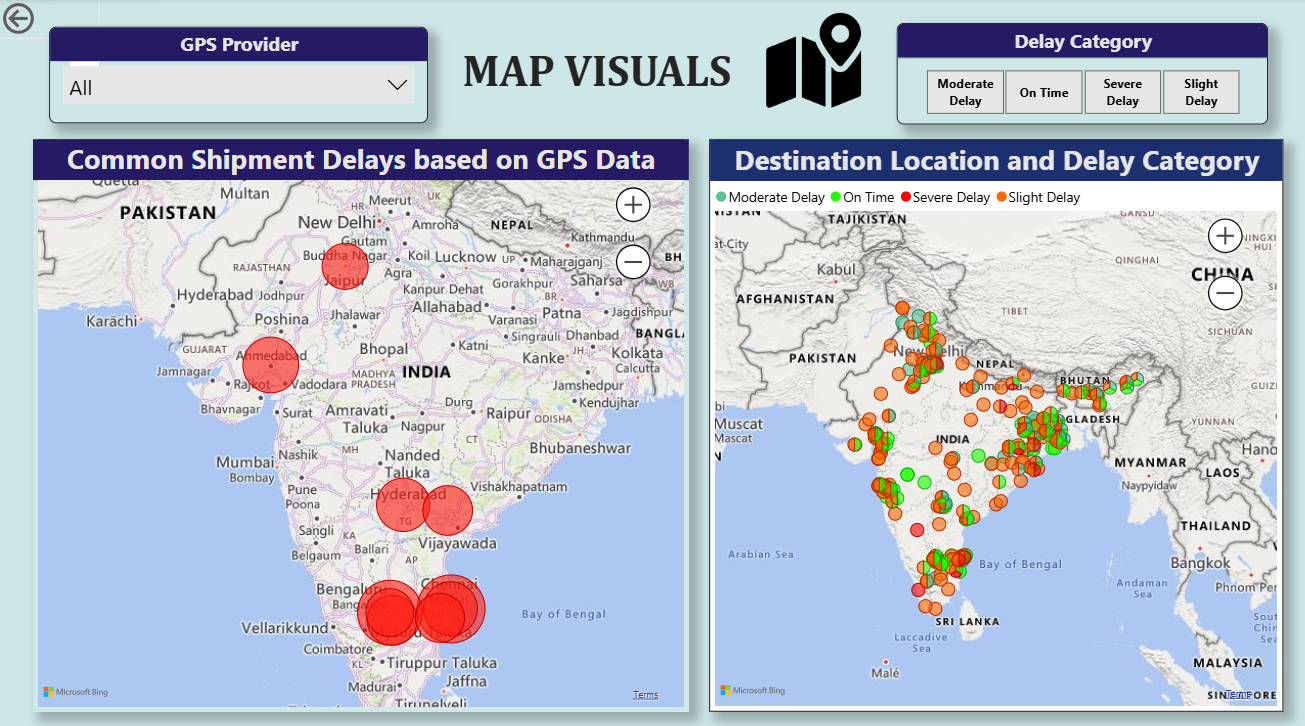

This screenshot's page, from the dashboard's own definition file:
{"tool":"powerbi","page":{"name":"Page 8","canvas":[1280,720],"ordinal":2},"visuals":[{"type":"map","title":"Common Shipment Delays based on GPS Data","fields":{"Size":["Sum(Data.Delay Time)"],"Category":["Data.Current Location"]},"box":[34.2,138.2,642,560.1],"z":0},{"type":"map","fields":{"Category":["Data.Destination Location"],"Series":["Data.Delay Category"]},"box":[695.8,138.2,561.3,560.1],"z":1000},{"type":"textbox","box":[373,40.4,425.5,90.5],"z":2000},{"type":"image","box":[745.9,9.8,103.9,102.7],"z":3000},{"type":"actionButton","box":[0,0,100,40],"z":4000},{"type":"slicer","title":"Delay Category","fields":{"Values":["Data.Delay Category"]},"box":[879.2,25,363.2,99],"z":5000},{"type":"slicer","title":"GPS Provider","fields":{"Values":["Data.Gps Provider"]},"box":[50.1,28.1,370.5,94.2],"z":6000}]}

Visuals, with their boxes in screenshot pixels (x1, y1, x2, y2), scaled from the page's 1280x720 canvas onto the 1305x726 screenshot:
"Common Shipment Delays based on GPS Data" map: 35:139:689:704
map - Data.Destination Location x Data.Delay Category: 709:139:1282:704
textbox: 380:41:814:132
image: 760:10:866:113
actionButton: 0:0:102:40
"Delay Category" slicer: 896:25:1267:125
"GPS Provider" slicer: 51:28:429:123
